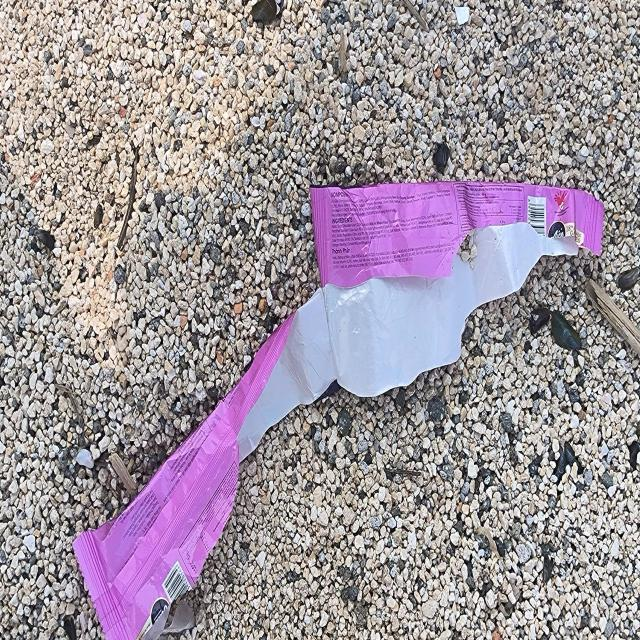plastic_waste: (71, 176, 606, 640)
